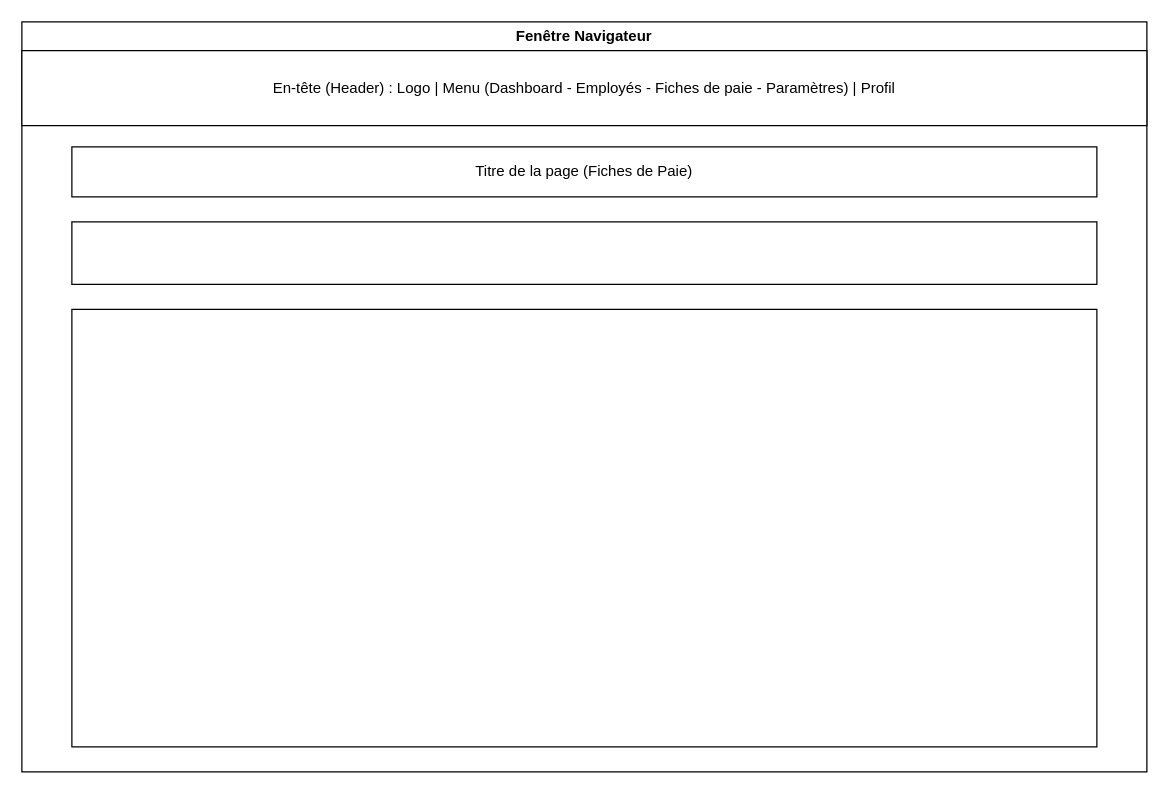
The diagram is 1169 pixels wide and 794 high, and some of its shapes have lost their labels. The shapes that lost their labels are listed below. From the top down, each one's box as (x1, y1, x2, y2) in pixels, then its label:
(71, 221, 1097, 284): Zone Actions (Sélection période, Bouton Générer, Export PDF)
(71, 308, 1097, 747): Zone Tableau de données (Liste des fiches générées)
